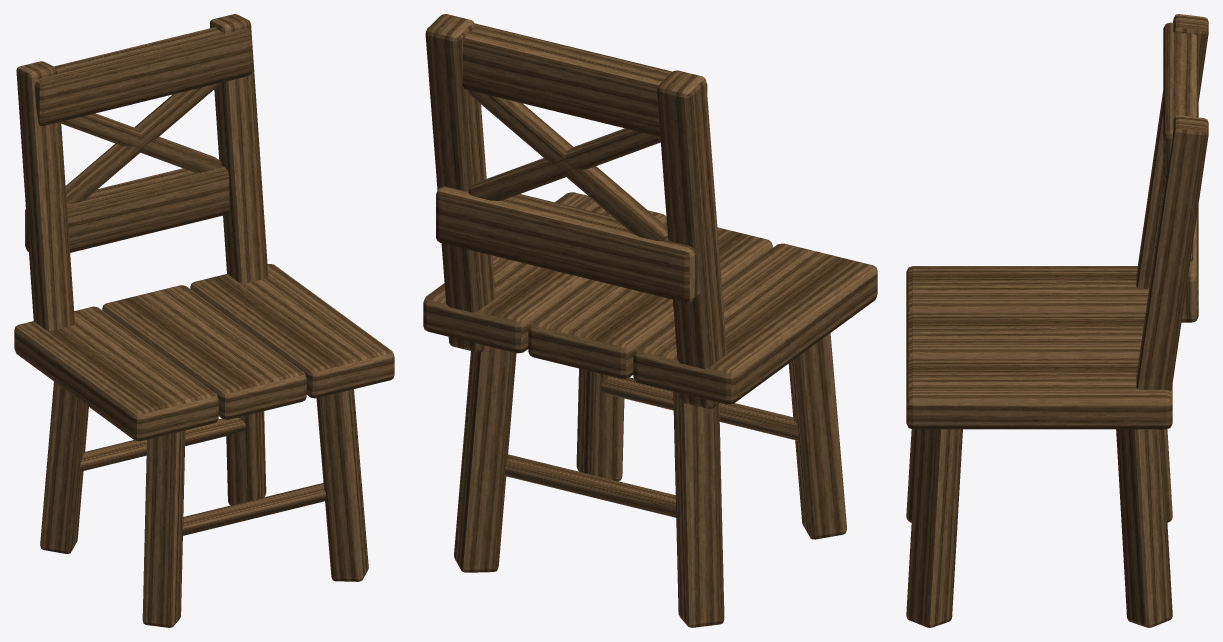
Rendered from tavern-chair.glb.
3 views of the same model, side by side, from view 1: azimuth 30°, elevation 25°; view 2: azimuth 150°, elevation 25°; view 3: azimuth 270°, elevation 25° (orthographic). The views are drawn at different scales.
Parts seen in each view (by area): view 1: tavern-chair - Tavern honey oak joinery runtime PBR, tavern-chair - Tavern aged timber framing runtime PBR; view 2: tavern-chair - Tavern honey oak joinery runtime PBR, tavern-chair - Tavern aged timber framing runtime PBR; view 3: tavern-chair - Tavern honey oak joinery runtime PBR, tavern-chair - Tavern aged timber framing runtime PBR.
Boxes of the visible parts, <box> form: tavern-chair - Tavern honey oak joinery runtime PBR: <box>14,27,394,627</box>; tavern-chair - Tavern aged timber framing runtime PBR: <box>16,14,326,535</box>; tavern-chair - Tavern honey oak joinery runtime PBR: <box>423,23,877,627</box>; tavern-chair - Tavern aged timber framing runtime PBR: <box>425,14,798,517</box>; tavern-chair - Tavern honey oak joinery runtime PBR: <box>906,22,1198,627</box>; tavern-chair - Tavern aged timber framing runtime PBR: <box>1136,14,1208,429</box>.
Bounding box in the file's own units: 0.593 × 1.02 × 0.5561.
2 materials, 2 textured.
